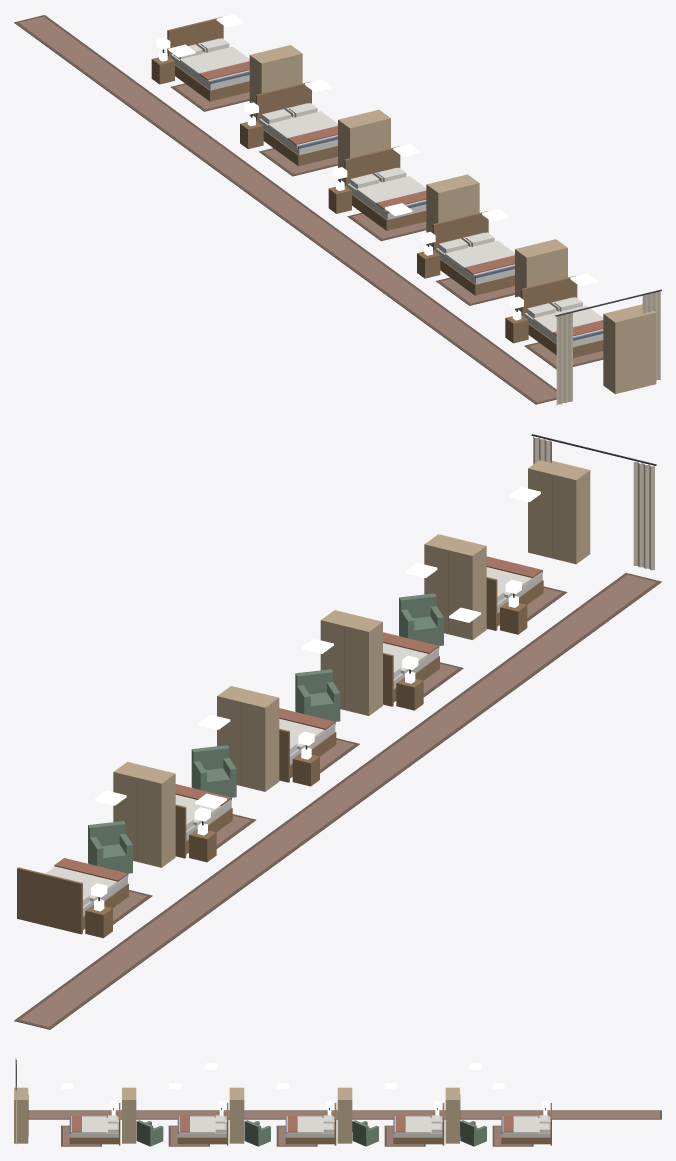
Rendered from fine-s1.glb.
The picture shows the model from 3 angles, top to bottom: view 1: azimuth 30°, elevation 25°; view 2: azimuth 150°, elevation 25°; view 3: azimuth 270°, elevation 25°; orthographic projection. The views are drawn at different scales.
Visible parts, largest first — view 1: soft-s1, dresser.004, bed-frame.003, bed-frame.001, bed-frame.000, bed-frame.002, bed-frame.004, dresser.000, dresser.002, dresser.001, dresser.003, nightstand.004 (+4 smaller); view 2: soft-s1, dresser.004, dresser.001, dresser.000, dresser.002, dresser.003, bed-frame.000, lounge-chair.001, lounge-chair.002, lounge-chair.000, lounge-chair.003, bed-frame.001 (+8 smaller); view 3: soft-s1, dresser.001, dresser.002, dresser.000, dresser.003, bed-frame.001, bed-frame.002, dresser.004, bed-frame.003, bed-frame.004, bed-frame.000, lounge-chair.003 (+3 smaller).
Part boxes in pixels (<box>): soft-s1: <box>14,15,661,405</box>; dresser.004: <box>603,304,656,394</box>; bed-frame.003: <box>432,211,514,295</box>; bed-frame.001: <box>256,81,337,166</box>; bed-frame.000: <box>167,17,249,101</box>; bed-frame.002: <box>344,146,426,230</box>; bed-frame.004: <box>521,275,603,357</box>; dresser.000: <box>249,45,302,117</box>; dresser.002: <box>426,174,479,246</box>; dresser.001: <box>338,109,390,181</box>; dresser.003: <box>515,239,567,311</box>; nightstand.004: <box>505,310,528,343</box>; soft-s1: <box>14,434,661,1029</box>; dresser.004: <box>528,460,590,564</box>; dresser.001: <box>217,686,279,791</box>; dresser.000: <box>113,762,175,867</box>; dresser.002: <box>320,610,382,715</box>; dresser.003: <box>424,534,486,639</box>; bed-frame.000: <box>17,867,128,934</box>; lounge-chair.001: <box>191,745,236,797</box>; lounge-chair.002: <box>295,669,340,721</box>; lounge-chair.000: <box>88,821,132,873</box>; lounge-chair.003: <box>399,593,443,645</box>; bed-frame.001: <box>175,797,232,858</box>; soft-s1: <box>15,1058,661,1146</box>; dresser.001: <box>337,1087,352,1143</box>; dresser.002: <box>229,1087,244,1143</box>; dresser.000: <box>445,1087,460,1143</box>; dresser.003: <box>122,1087,136,1143</box>; bed-frame.001: <box>393,1103,444,1145</box>; bed-frame.002: <box>285,1103,336,1145</box>; dresser.004: <box>14,1087,28,1143</box>; bed-frame.003: <box>177,1103,228,1145</box>; bed-frame.004: <box>69,1103,120,1145</box>; bed-frame.000: <box>501,1103,551,1145</box>; lounge-chair.003: <box>136,1120,163,1146</box>.
Size of the model in its own units: 3.55 by 2.56 by 26.82.
